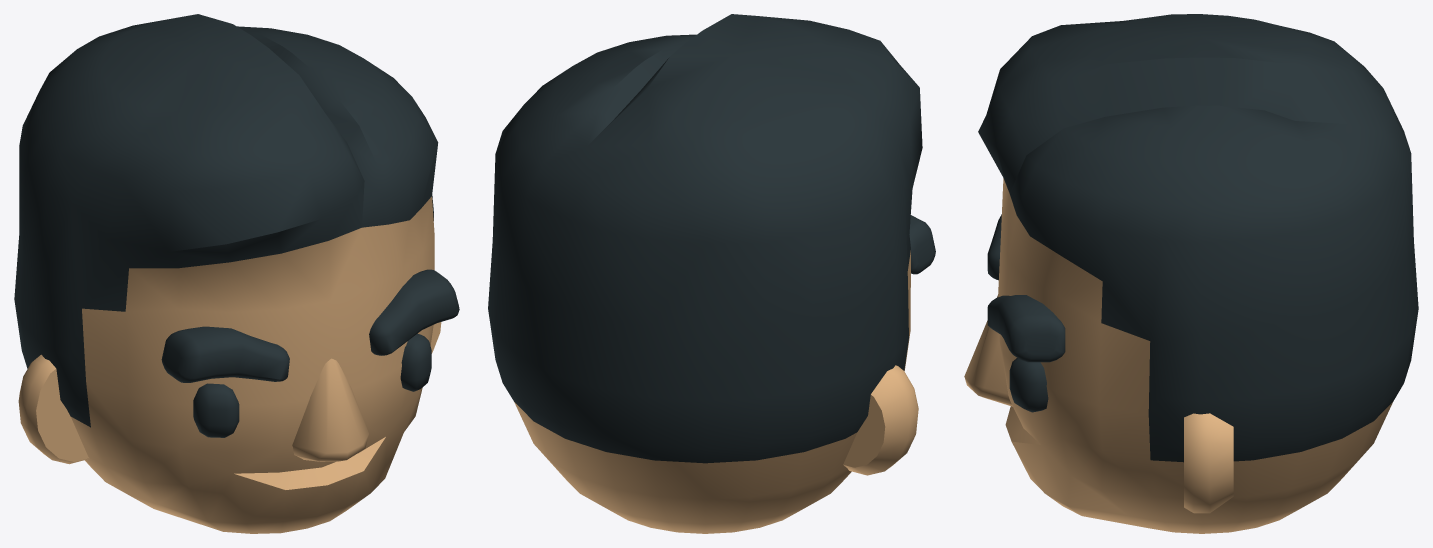
Rendered from knightHeadC.dae.
The picture shows the model from 3 angles, left to right: view 1: azimuth 30°, elevation 25°; view 2: azimuth 150°, elevation 25°; view 3: azimuth 270°, elevation 25°; orthographic projection.
Visible parts, largest first — view 1: knightHeadC; view 2: knightHeadC; view 3: knightHeadC.
Part boxes in pixels (x1,y1,x2,y2): knightHeadC: (14, 14, 459, 533); knightHeadC: (488, 14, 935, 533); knightHeadC: (964, 14, 1418, 533).
Bounding box in the file's own units: 1.18 × 1.11 × 1.19.
